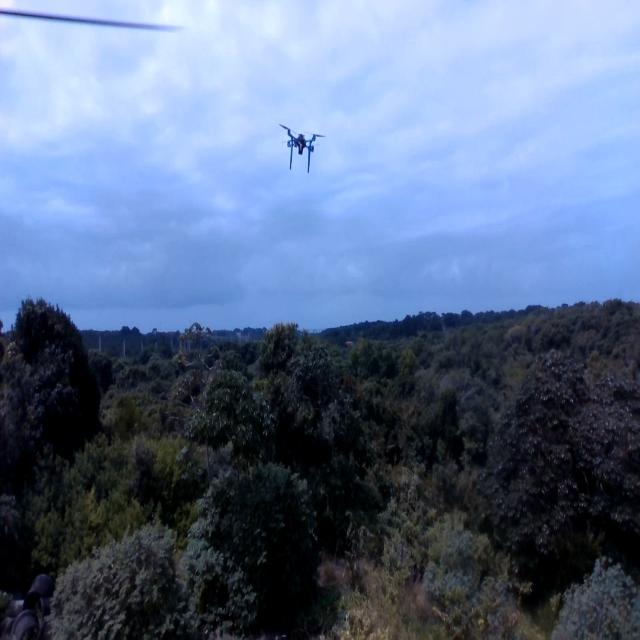-uav-: (281, 123, 321, 176)
